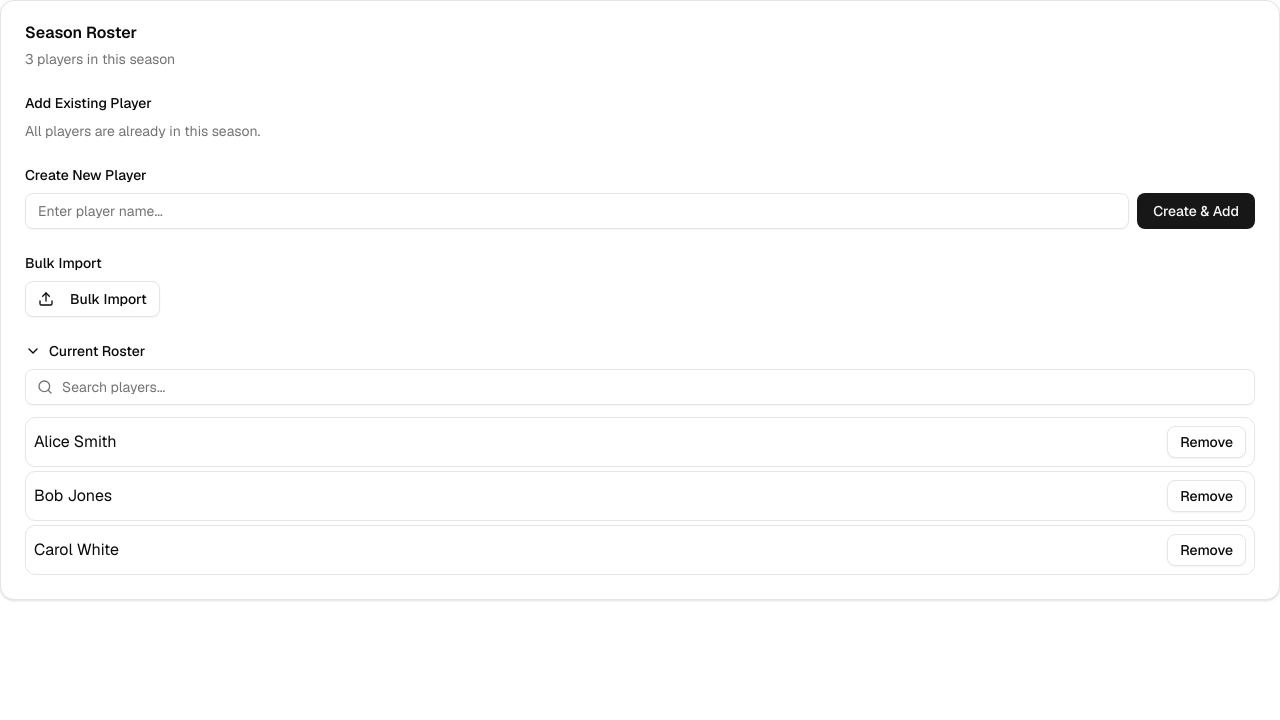
Test: RosterManager - Collapsible Roster › clicking toggle button collapses roster and hides player list
// Click the toggle button
Click the button with test id "roster-toggle". click: (97,351)
box: [25, 341, 1255, 361]
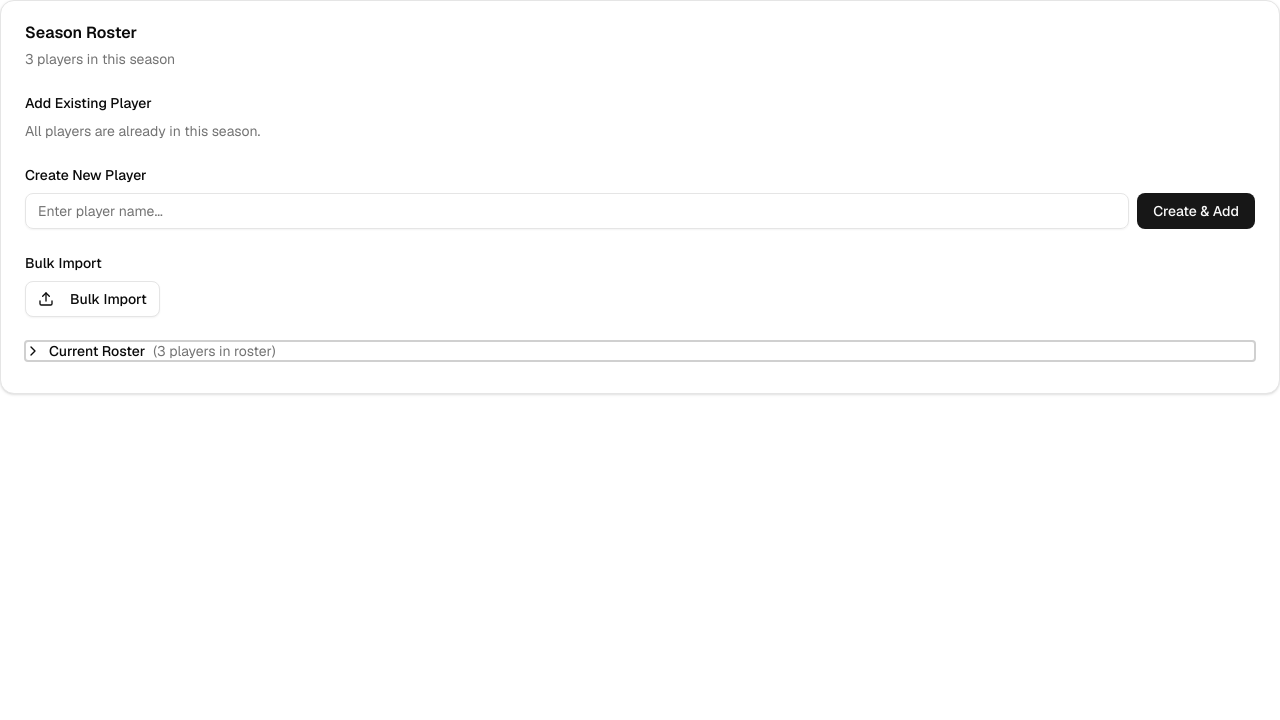
Check: the icon with test id "chevron-right" is shown, box [25, 343, 41, 359]
Check: the icon with test id "chevron-down" is gone
